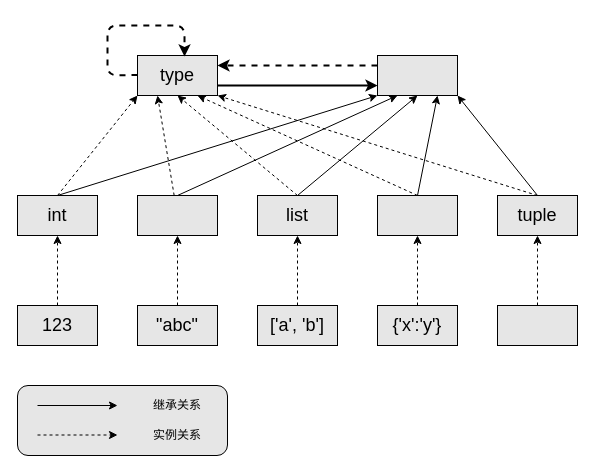
Image size: 595x473. Some labels were removed from this diagram. The shapes that lost their labels are listed below. From the top down, each one's box as (x1, y1, x2, y2) in pixels, then its label:
(376, 54, 458, 96): object
(136, 194, 218, 236): str
(376, 194, 458, 236): dict
(496, 304, 578, 346): (1,'a')
